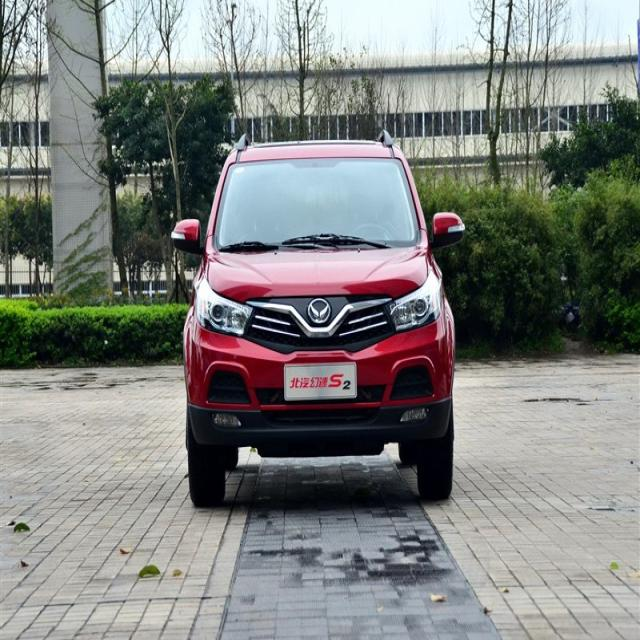front_bumper: (186, 336, 452, 447)
front_glass: (215, 159, 421, 252)
front_left_side_light: (390, 274, 441, 334)
front_left_side_mirror: (428, 211, 466, 248)
front_right_side_light: (191, 280, 253, 342)
front_right_side_mirror: (170, 216, 202, 255)
